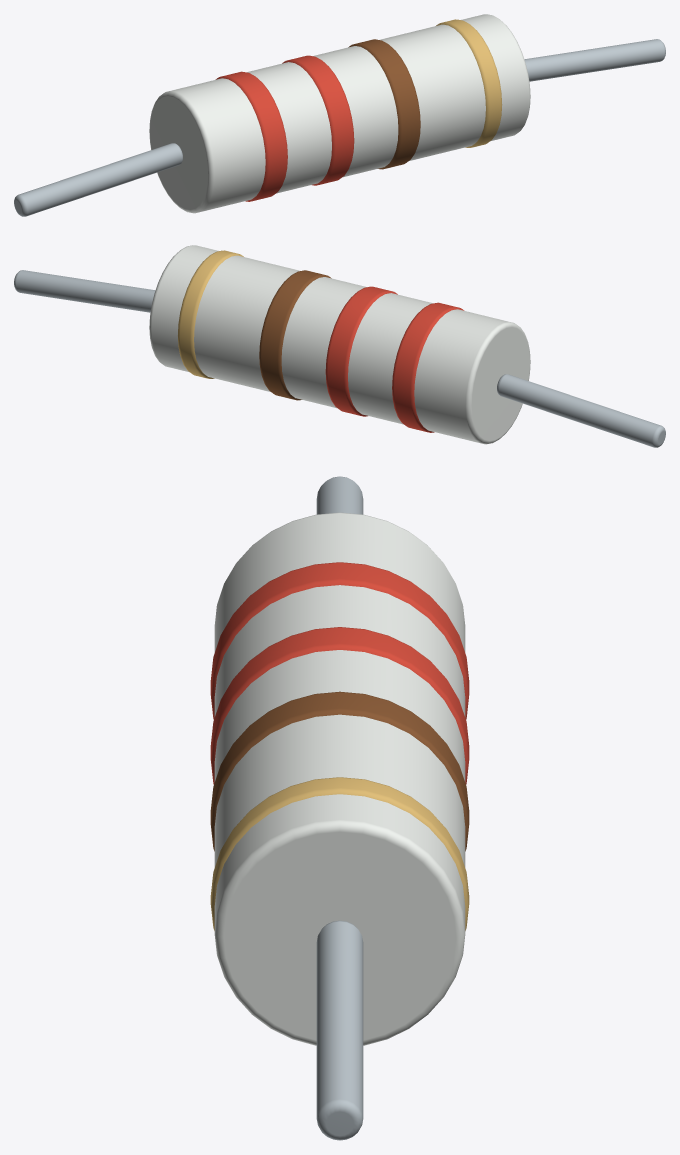
The model's file is ENG_Resistor220.fbx.
3 renders of one model, top to bottom at view 1: azimuth 30°, elevation 25°; view 2: azimuth 150°, elevation 25°; view 3: azimuth 270°, elevation 25°, orthographic. The views are drawn at different scales.
Visible parts, largest first — view 1: Body.001, LeadA.001, LeadB.001, Band2.001, Band0.001, Band1.001, Tolerance.001; view 2: Body.001, LeadA.001, LeadB.001, Band2.001, Band0.001, Band1.001, Tolerance.001; view 3: Body.001, LeadB.001, Band2.001, Band0.001, Band1.001, Tolerance.001, LeadA.001.
Part boxes in pixels (x1,y1,x2,y2): Body.001: [149, 14, 530, 213]; LeadA.001: [14, 143, 182, 216]; LeadB.001: [524, 39, 665, 81]; Band2.001: [348, 39, 420, 169]; Band0.001: [215, 71, 287, 201]; Band1.001: [282, 55, 354, 185]; Tolerance.001: [436, 19, 502, 147]; Body.001: [149, 245, 530, 444]; LeadA.001: [497, 374, 665, 447]; LeadB.001: [14, 270, 155, 312]; Band2.001: [259, 270, 331, 400]; Band0.001: [392, 302, 464, 432]; Band1.001: [325, 286, 397, 416]; Tolerance.001: [177, 250, 243, 378]; Body.001: [214, 512, 465, 1045]; LeadB.001: [316, 920, 363, 1140]; Band2.001: [210, 691, 469, 851]; Band0.001: [210, 562, 469, 719]; Band1.001: [210, 627, 469, 784]; Tolerance.001: [210, 777, 469, 930]; LeadA.001: [316, 476, 363, 514].
Bounding box in the file's own units: 32.05 × 5.56 × 5.56.
